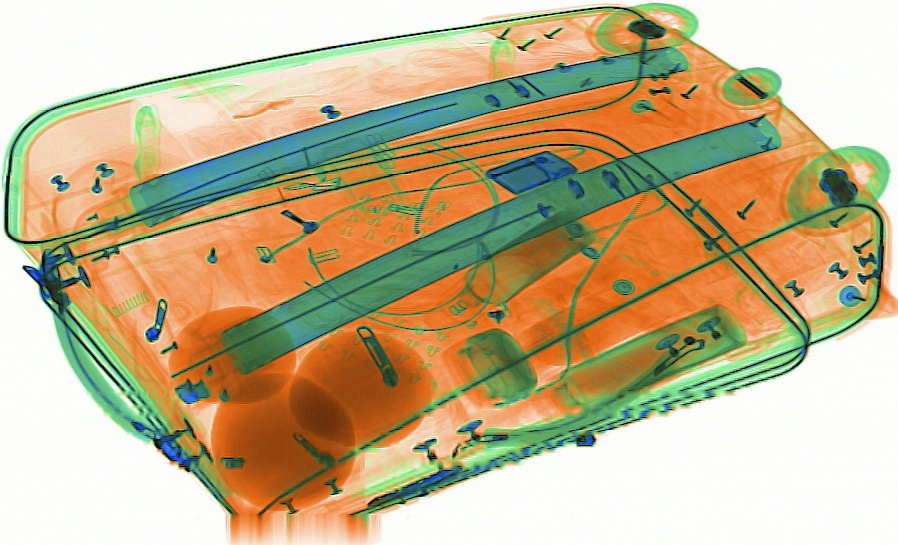lighter: (483, 147, 579, 196)
